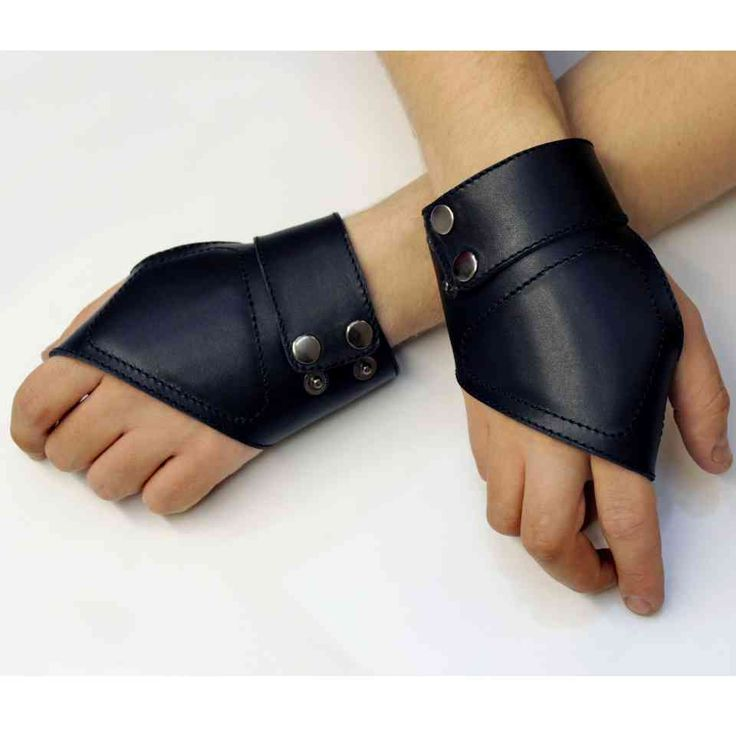cuero: (49, 137, 687, 481)
